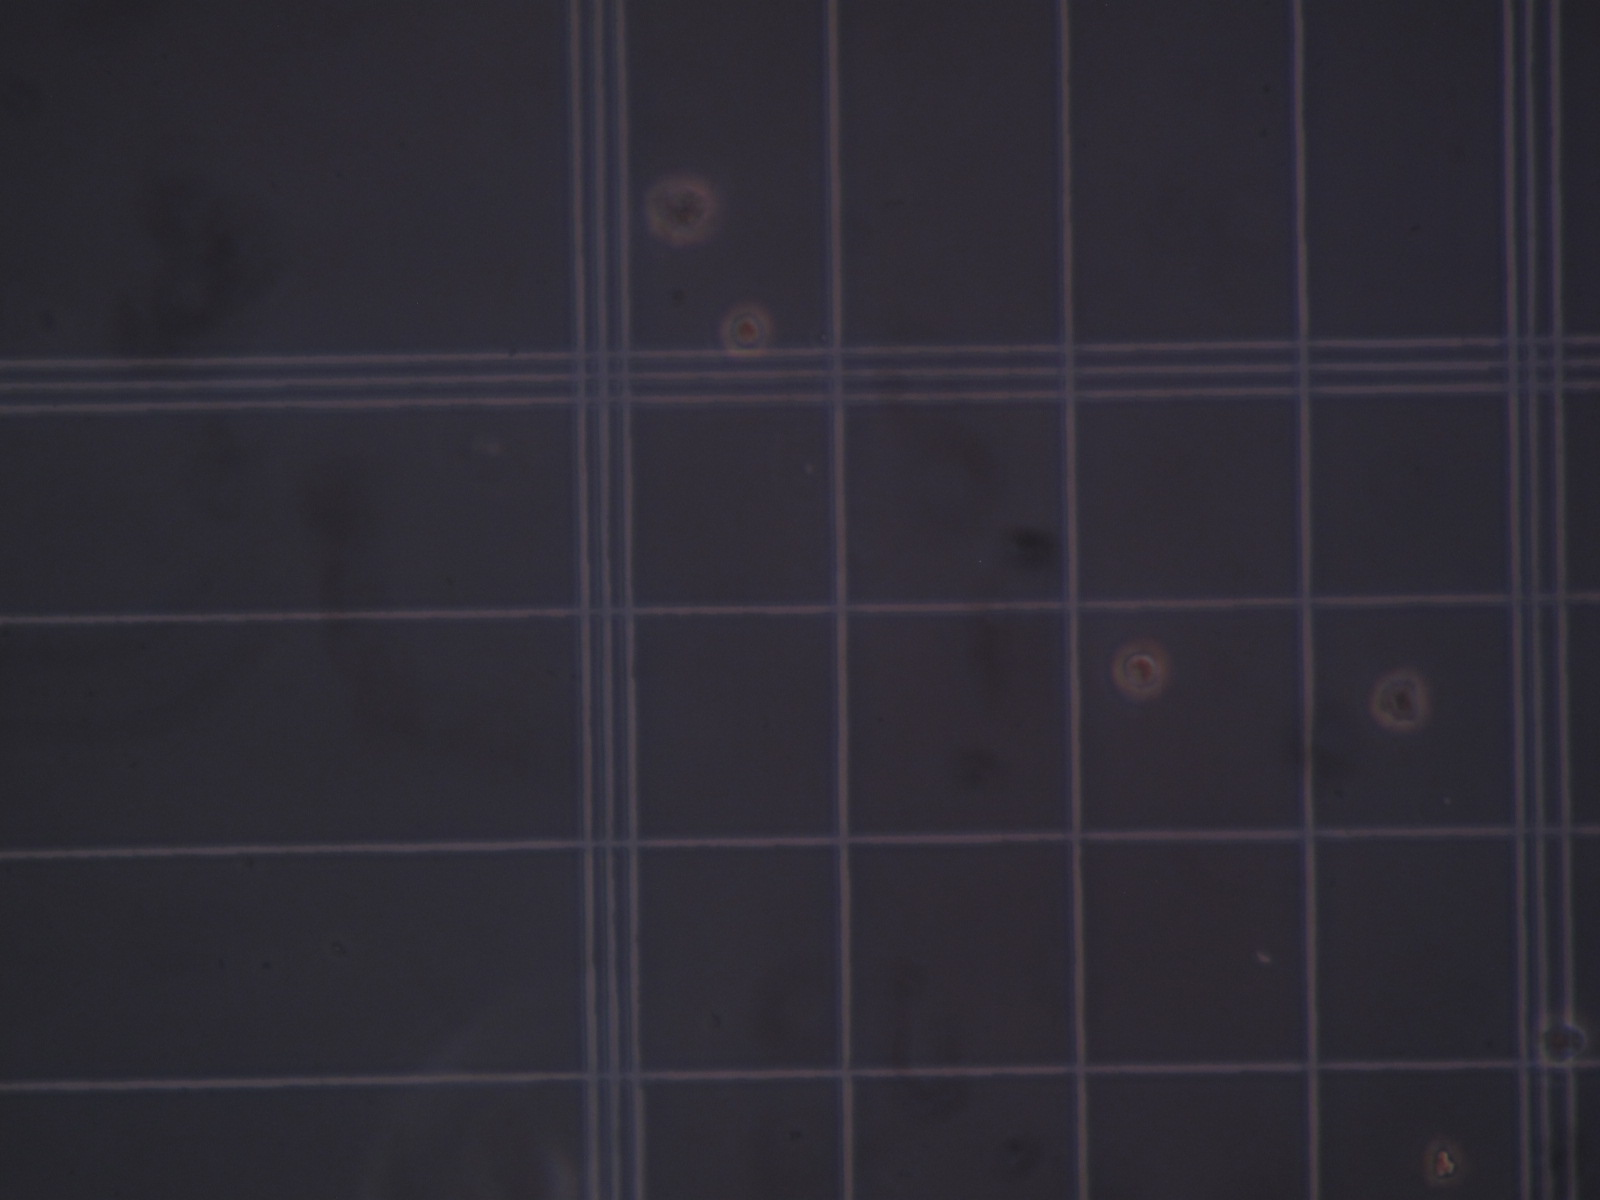hemo: (643, 176, 716, 246), (1371, 671, 1427, 730), (1112, 642, 1168, 697), (719, 303, 772, 359), (1536, 1015, 1590, 1068)
